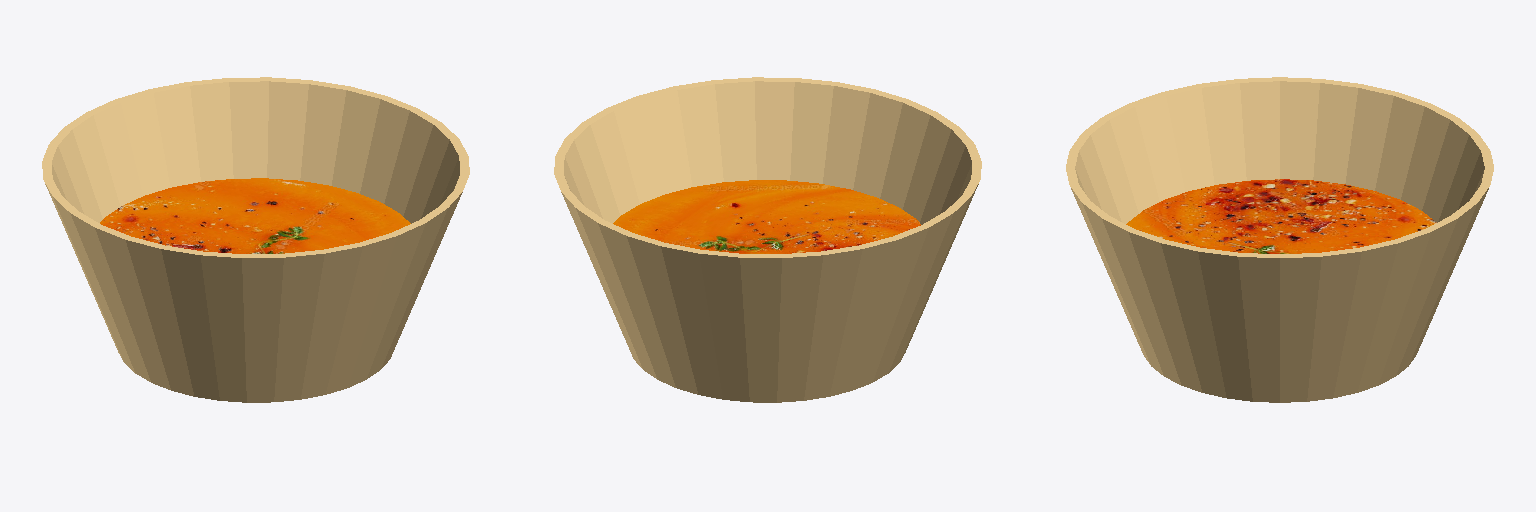
3 views of the same model, side by side, from view 1: azimuth 30°, elevation 25°; view 2: azimuth 150°, elevation 25°; view 3: azimuth 270°, elevation 25° (orthographic).
Parts seen in each view (by area): view 1: Cilindro.007_Cilindro.004; view 2: Cilindro.007_Cilindro.004; view 3: Cilindro.007_Cilindro.004.
Part boxes in pixels (x1,y1,x2,y2): Cilindro.007_Cilindro.004: (42,77,469,402); Cilindro.007_Cilindro.004: (554,77,981,402); Cilindro.007_Cilindro.004: (1066,77,1493,402).
Size of the model in its own units: 0.22 by 0.0998 by 0.22.
Materials: 2 (2 with a texture image).